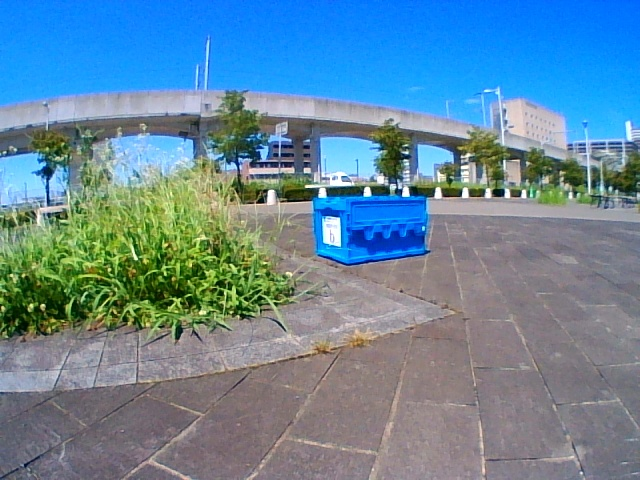blue_box: (315, 197, 427, 265)
tag_b: (324, 220, 340, 244)
